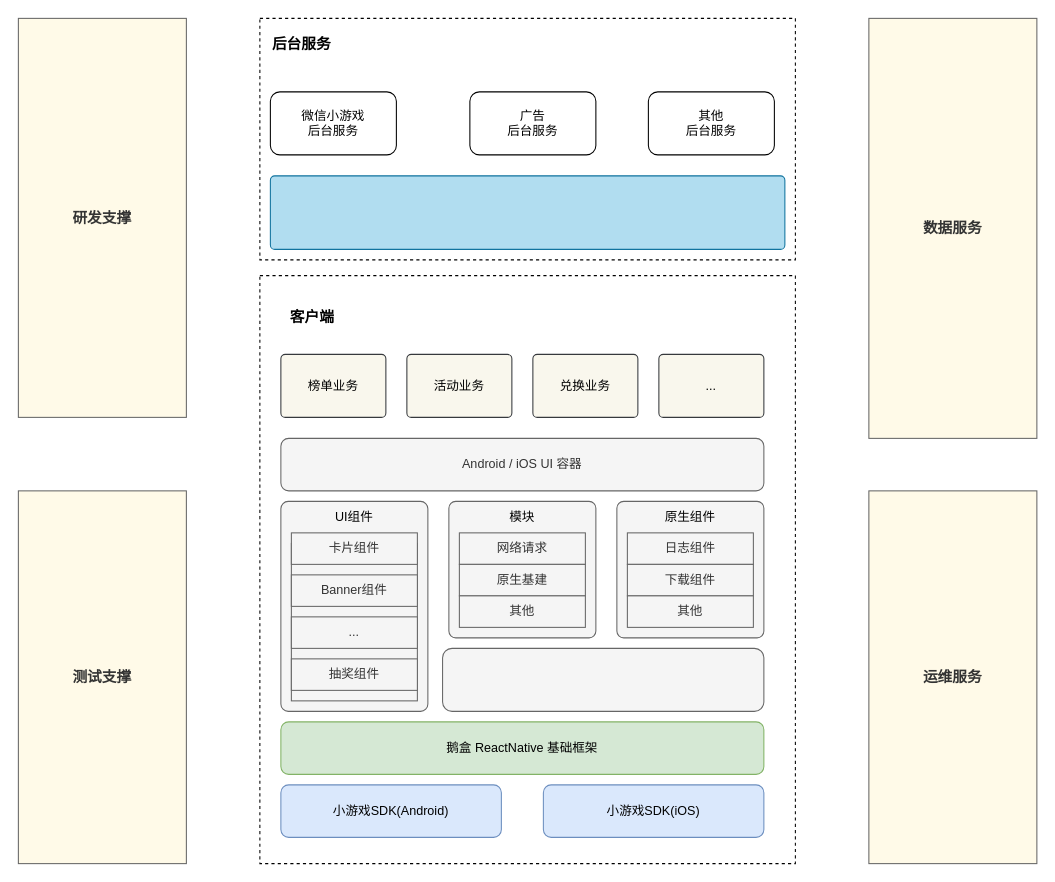
Some shapes in this 1055 by 882 pixel diagram are drawn without their labels. Each missing label, with the box of its shape:
Android/iOS Bridge: (442, 647, 764, 711)
鹅盒后台: (269, 175, 785, 249)
